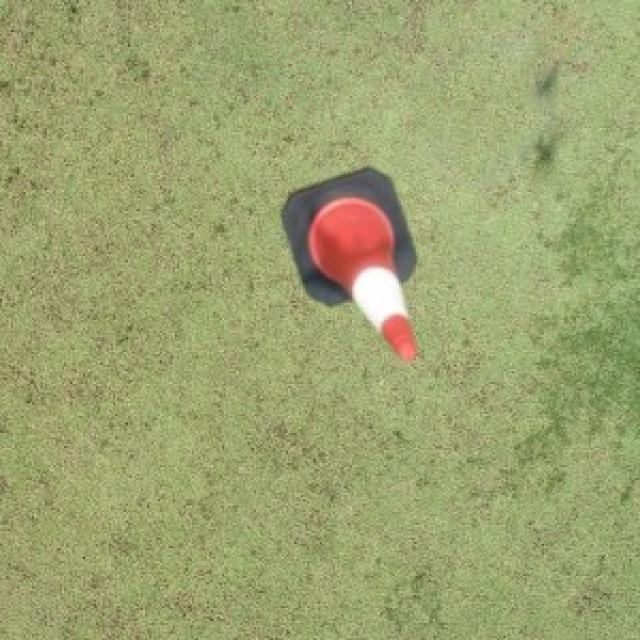cone: (277, 164, 418, 358)
